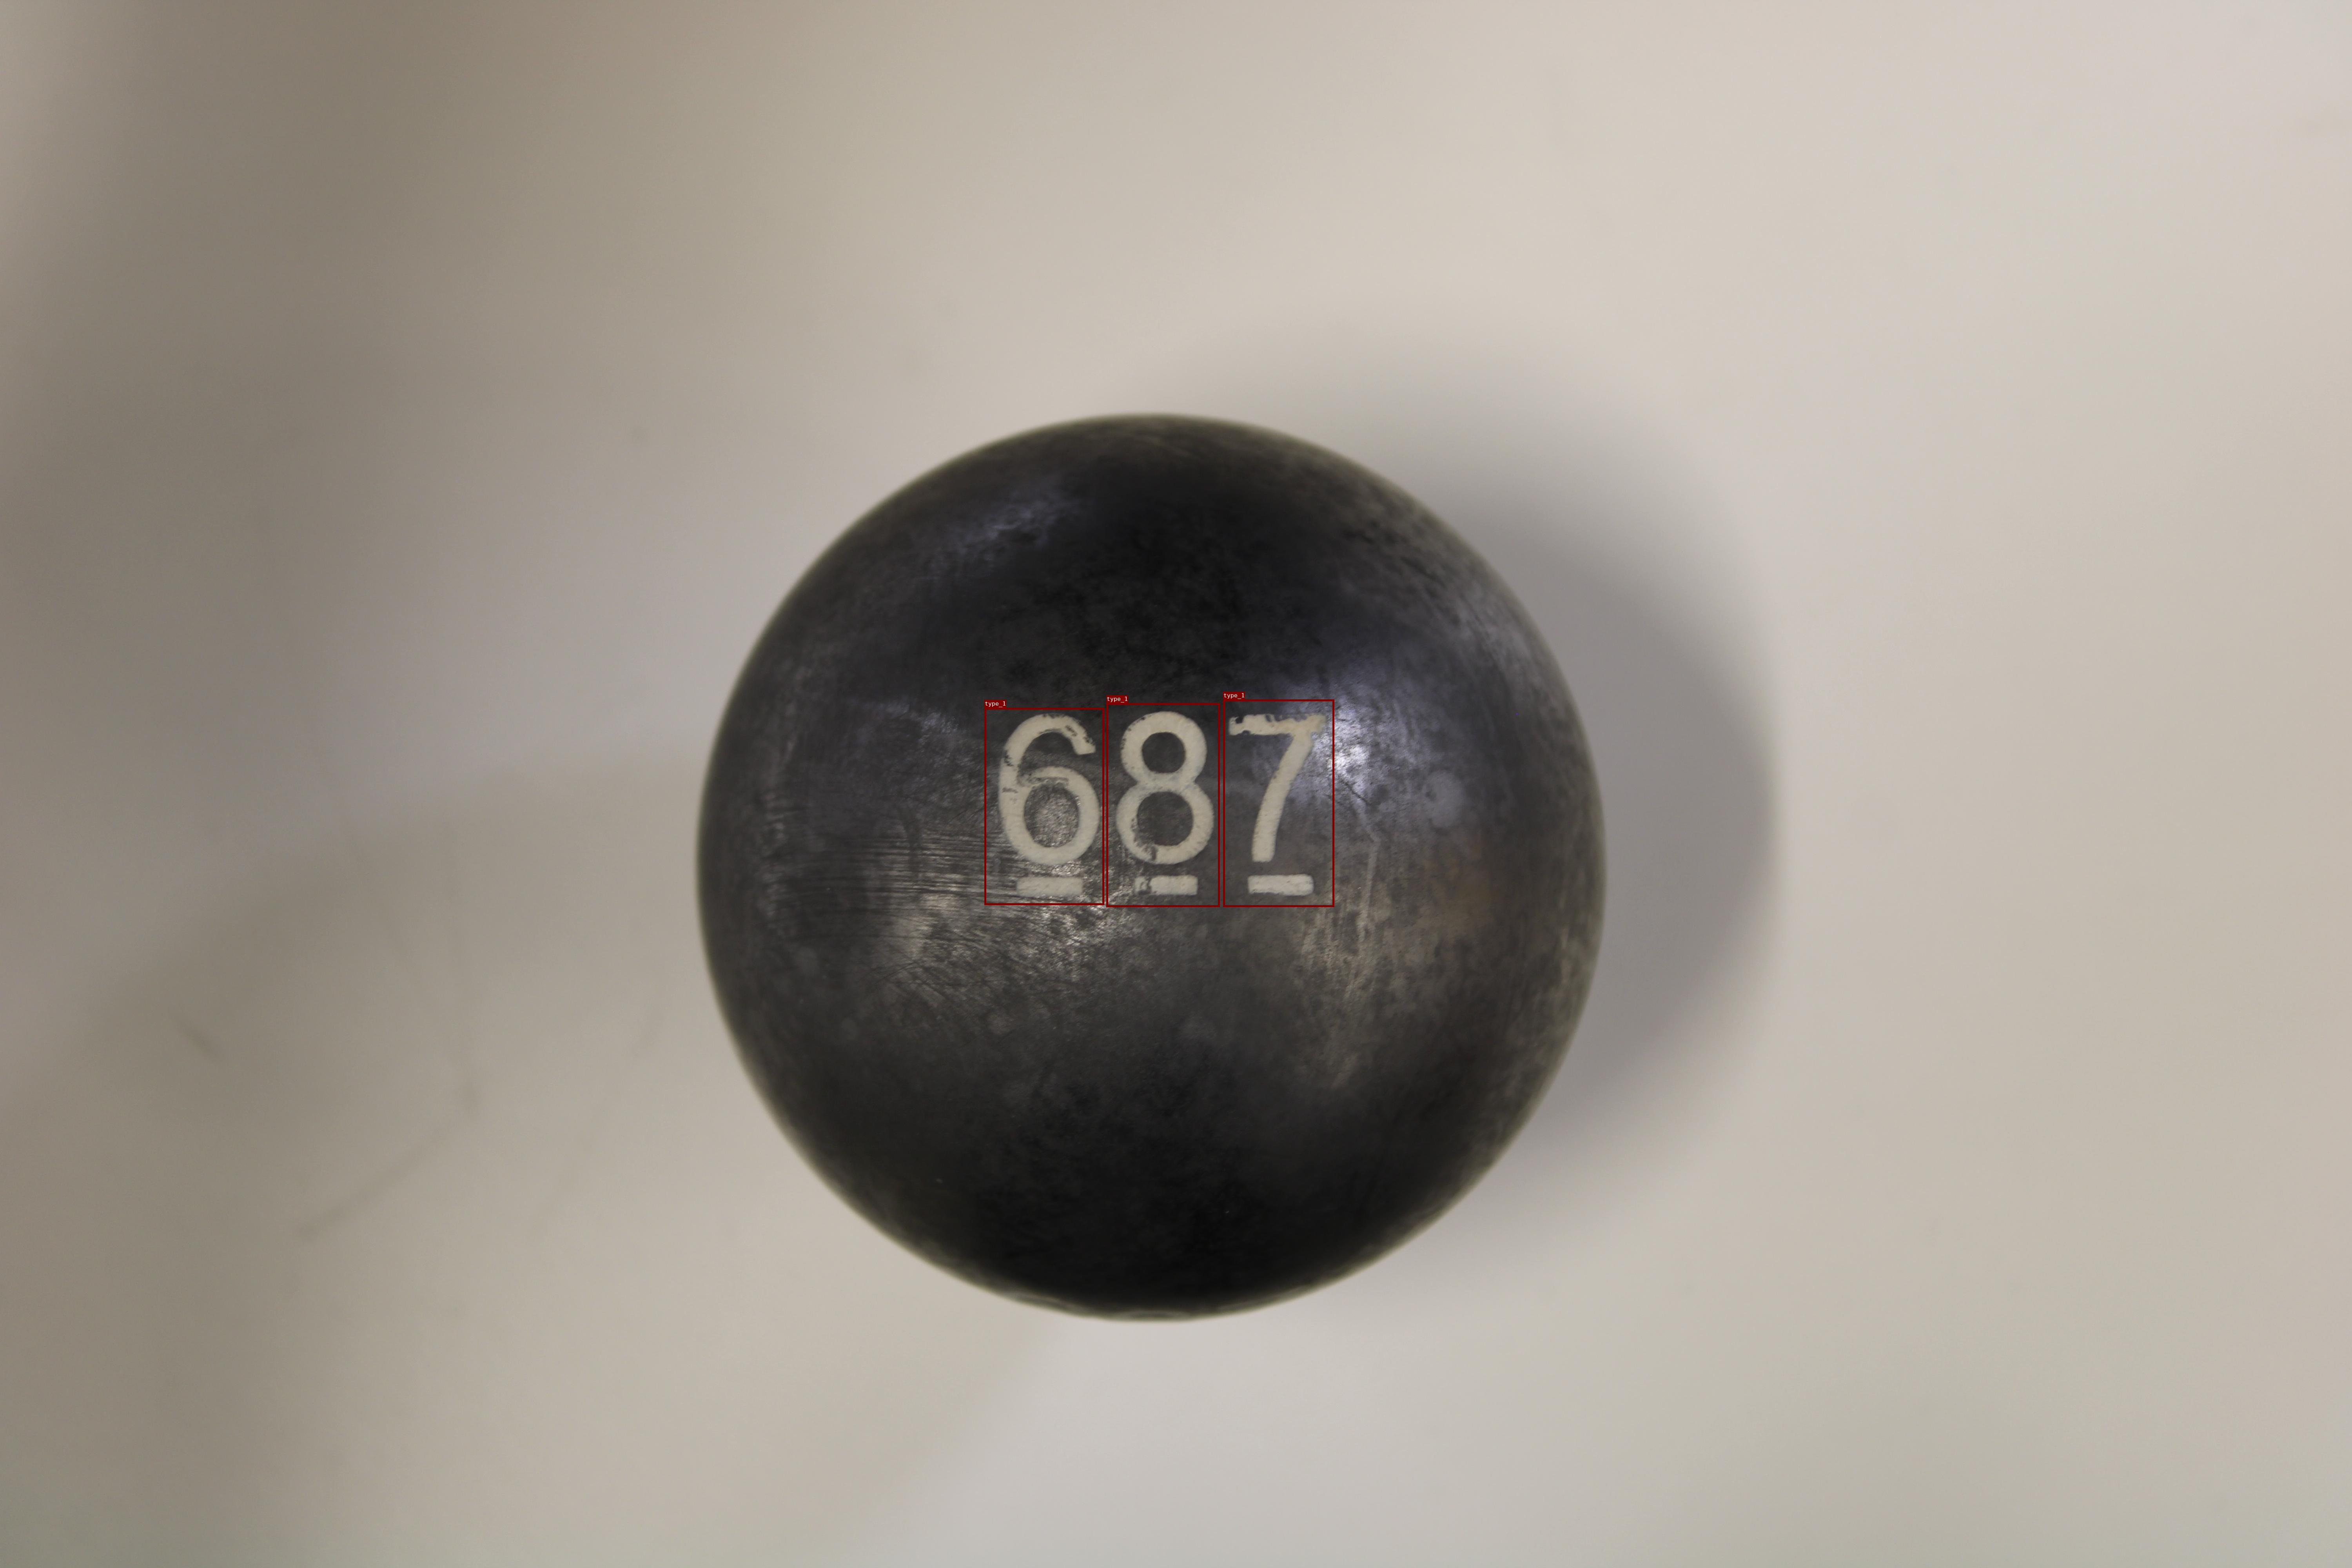type_1: (984, 707, 1104, 905), (1106, 703, 1220, 906), (1223, 700, 1333, 906)
